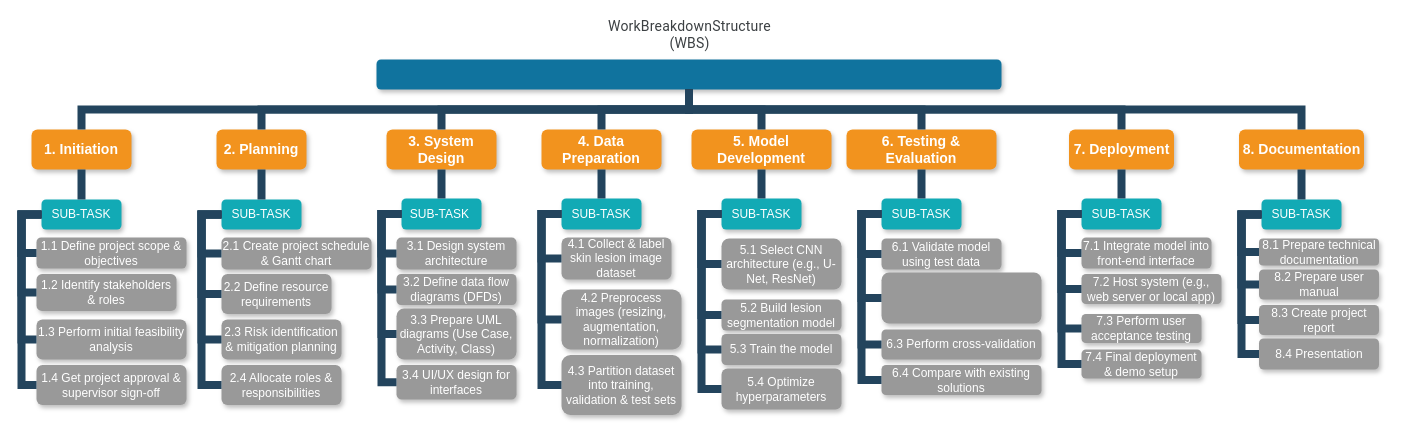
The diagram is 1402 pixels wide and 439 high, and some of its shapes have lost their labels. The centre of each missing label's shape, as x and y in pixels:
"6.2 Measure performance metrics (accuracy, Dice score, IoU, etc.)" belongs at pixel 962 299.
"Automated Lesion Boundary Segmentation for Early Skin Cancer Detection" belongs at pixel 689 75.
